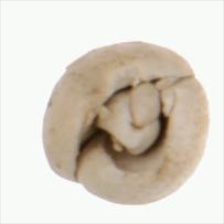L3: (84, 77, 171, 162)
L4: (42, 39, 210, 206)
